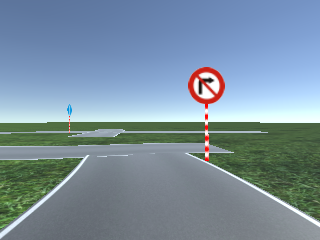-5: (1, 193, 320, 238)
NoRight: (188, 67, 225, 104)
